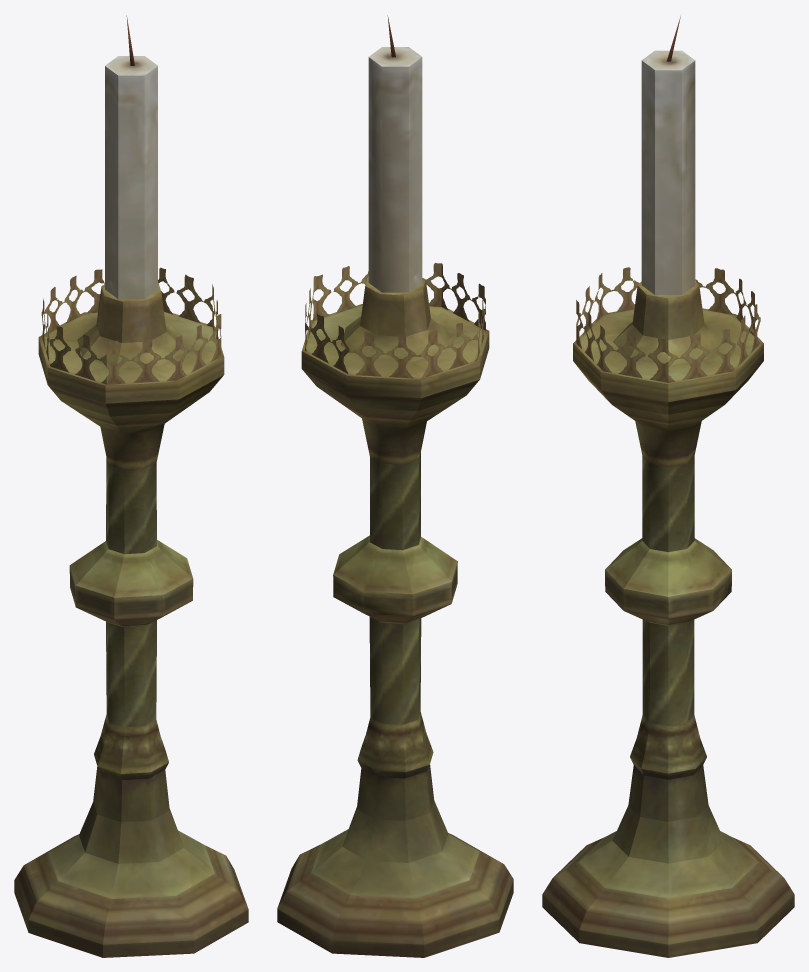
The model's file is bg_lut_lucastle_libraryprop08_sm_artree.FBX.
3 renders of one model, left to right at view 1: azimuth 30°, elevation 25°; view 2: azimuth 150°, elevation 25°; view 3: azimuth 270°, elevation 25°, orthographic.
Visible parts, largest first — view 1: bg_lut_lucastle_libraryprop08_sm_artree; view 2: bg_lut_lucastle_libraryprop08_sm_artree; view 3: bg_lut_lucastle_libraryprop08_sm_artree.
Part boxes in pixels (<box>): bg_lut_lucastle_libraryprop08_sm_artree: <box>14,15,248,957</box>; bg_lut_lucastle_libraryprop08_sm_artree: <box>277,15,513,957</box>; bg_lut_lucastle_libraryprop08_sm_artree: <box>542,16,794,957</box>.
Bounding box in the file's own units: 24.73 × 102 × 26.05.
